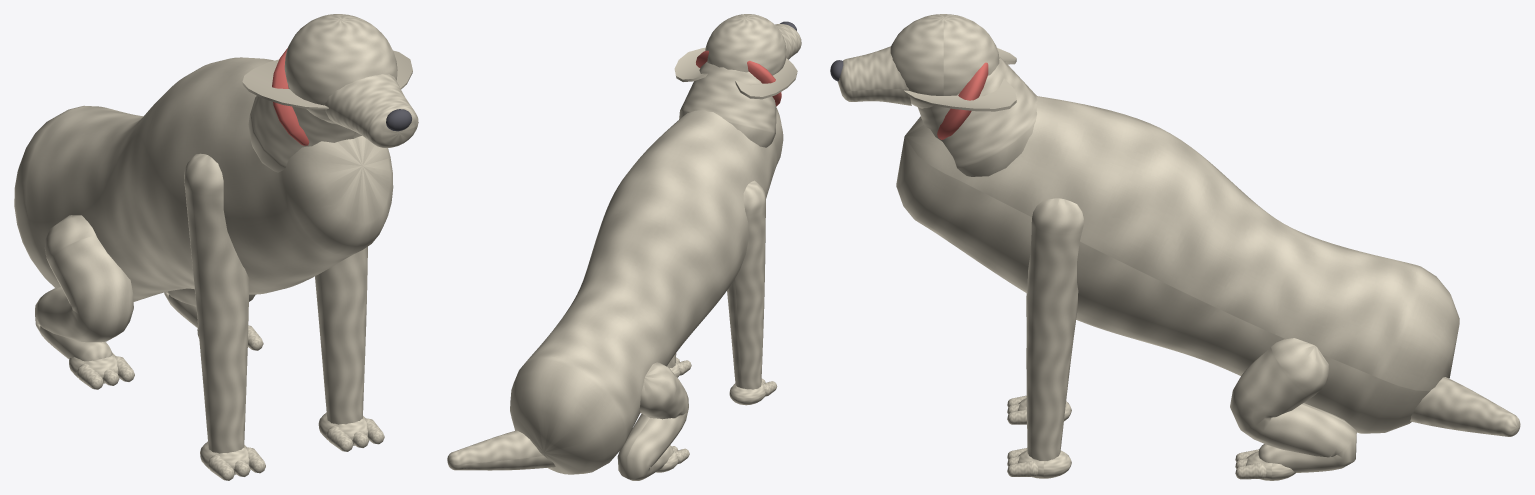
File: pets-and-companions-hd-labrador-retriever-sitting-001a11cb__28138.glb
3 views of the same model, side by side, from view 1: azimuth 30°, elevation 25°; view 2: azimuth 150°, elevation 25°; view 3: azimuth 270°, elevation 25° (orthographic). The views are drawn at different scales.
Visible parts, largest first — view 1: labrador-retriever-sitting; view 2: labrador-retriever-sitting; view 3: labrador-retriever-sitting.
Boxes of the visible parts, x1=… form: labrador-retriever-sitting: x1=14, y1=14, x2=418, y2=480; labrador-retriever-sitting: x1=447, y1=14, x2=801, y2=480; labrador-retriever-sitting: x1=830, y1=14, x2=1520, y2=480.
Bounding box in the file's own units: 0.3096 × 0.7187 × 1.04.
3 materials, 1 textured.
